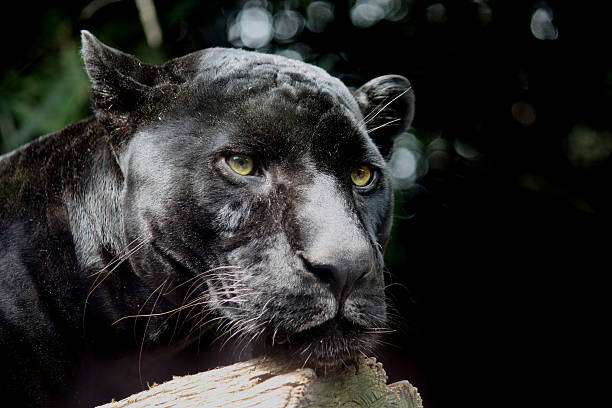panther: (42, 18, 467, 408)
